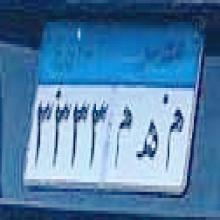3: (33, 95, 54, 166), (53, 96, 72, 172), (71, 97, 91, 169), (90, 101, 108, 167)
haa: (135, 112, 159, 171)
meem: (162, 107, 187, 172), (111, 103, 133, 175)
